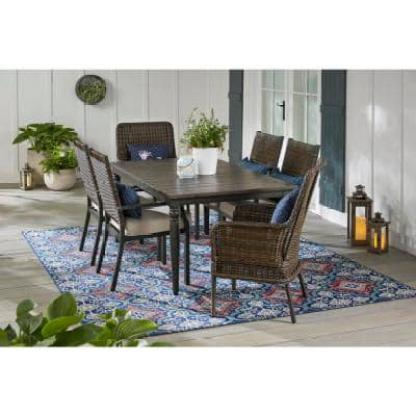table: (102, 150, 305, 298)
